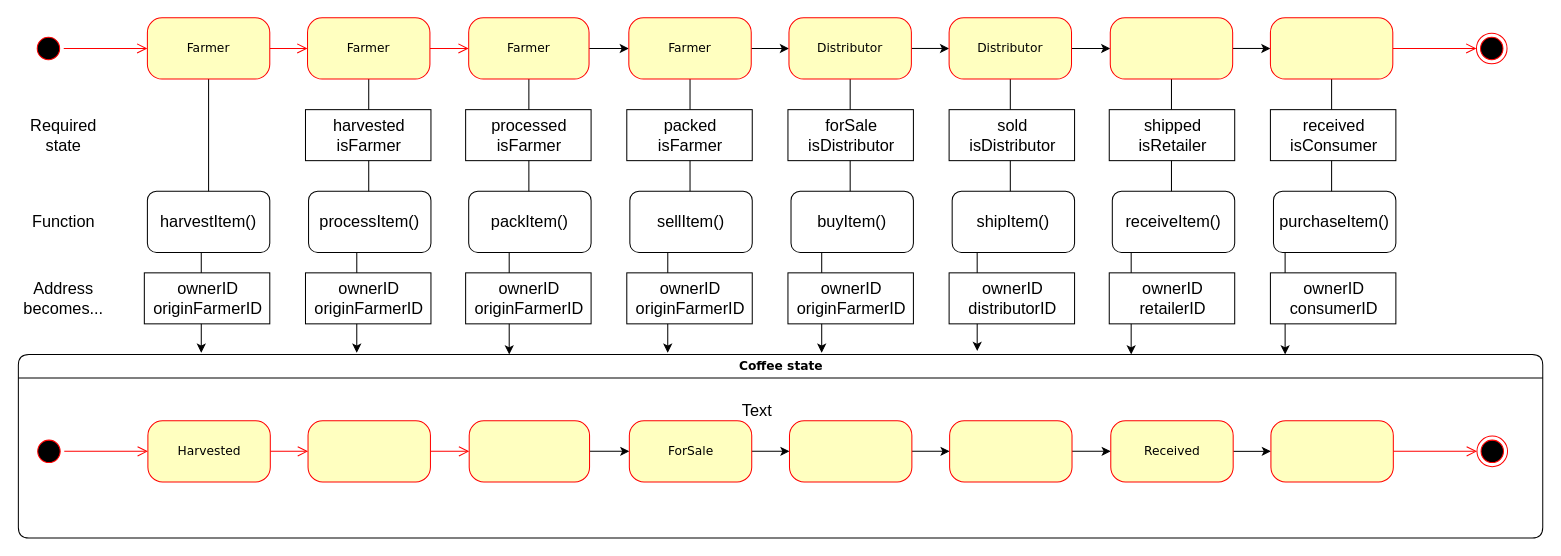
This 1561x556 diagram has some shape labels left out. The shapes that lost their labels are listed below. From the top down, each one's centre as x and y in pixels, then its label:
the point at 1171,48: Retailer
the point at 1331,48: Consumer
the point at 368,451: Processed
the point at 529,451: Packed
the point at 850,451: Sold
the point at 1010,451: Shipped
the point at 1331,451: Purchased
